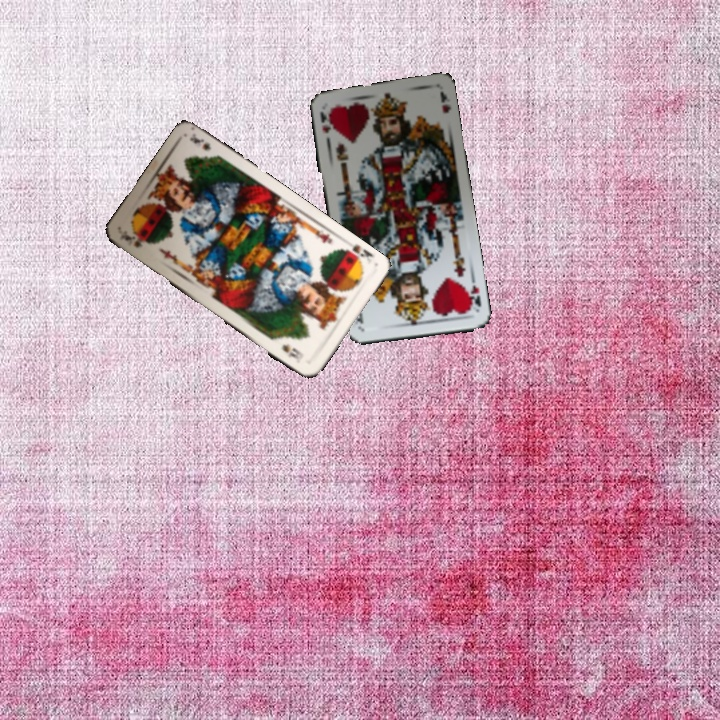HK: (463, 273, 484, 314), (316, 107, 334, 136)
SK: (338, 240, 376, 263), (115, 226, 146, 250)
